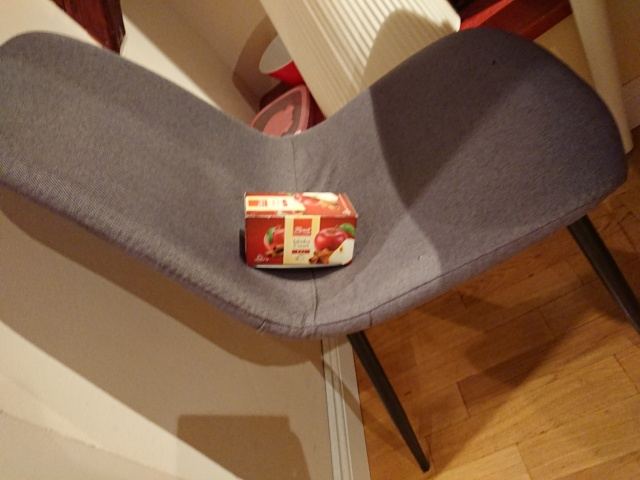Franck Apple Cinnamon Tea 60g: (240, 188, 361, 271)
